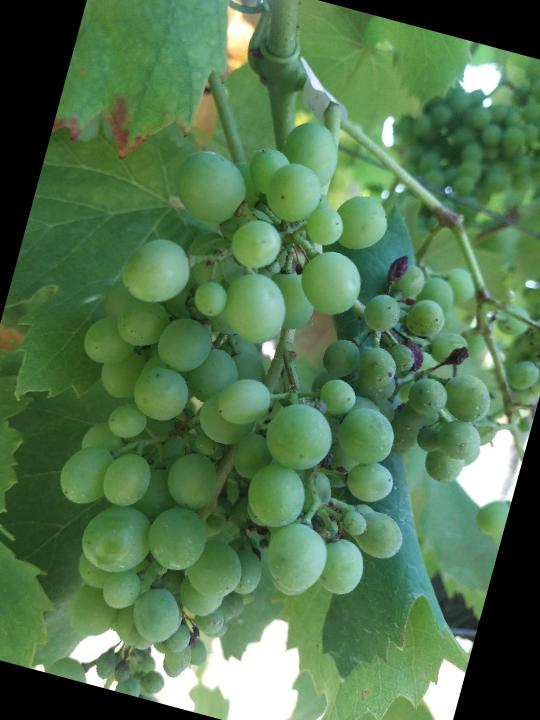grape: (7, 78, 540, 720)
